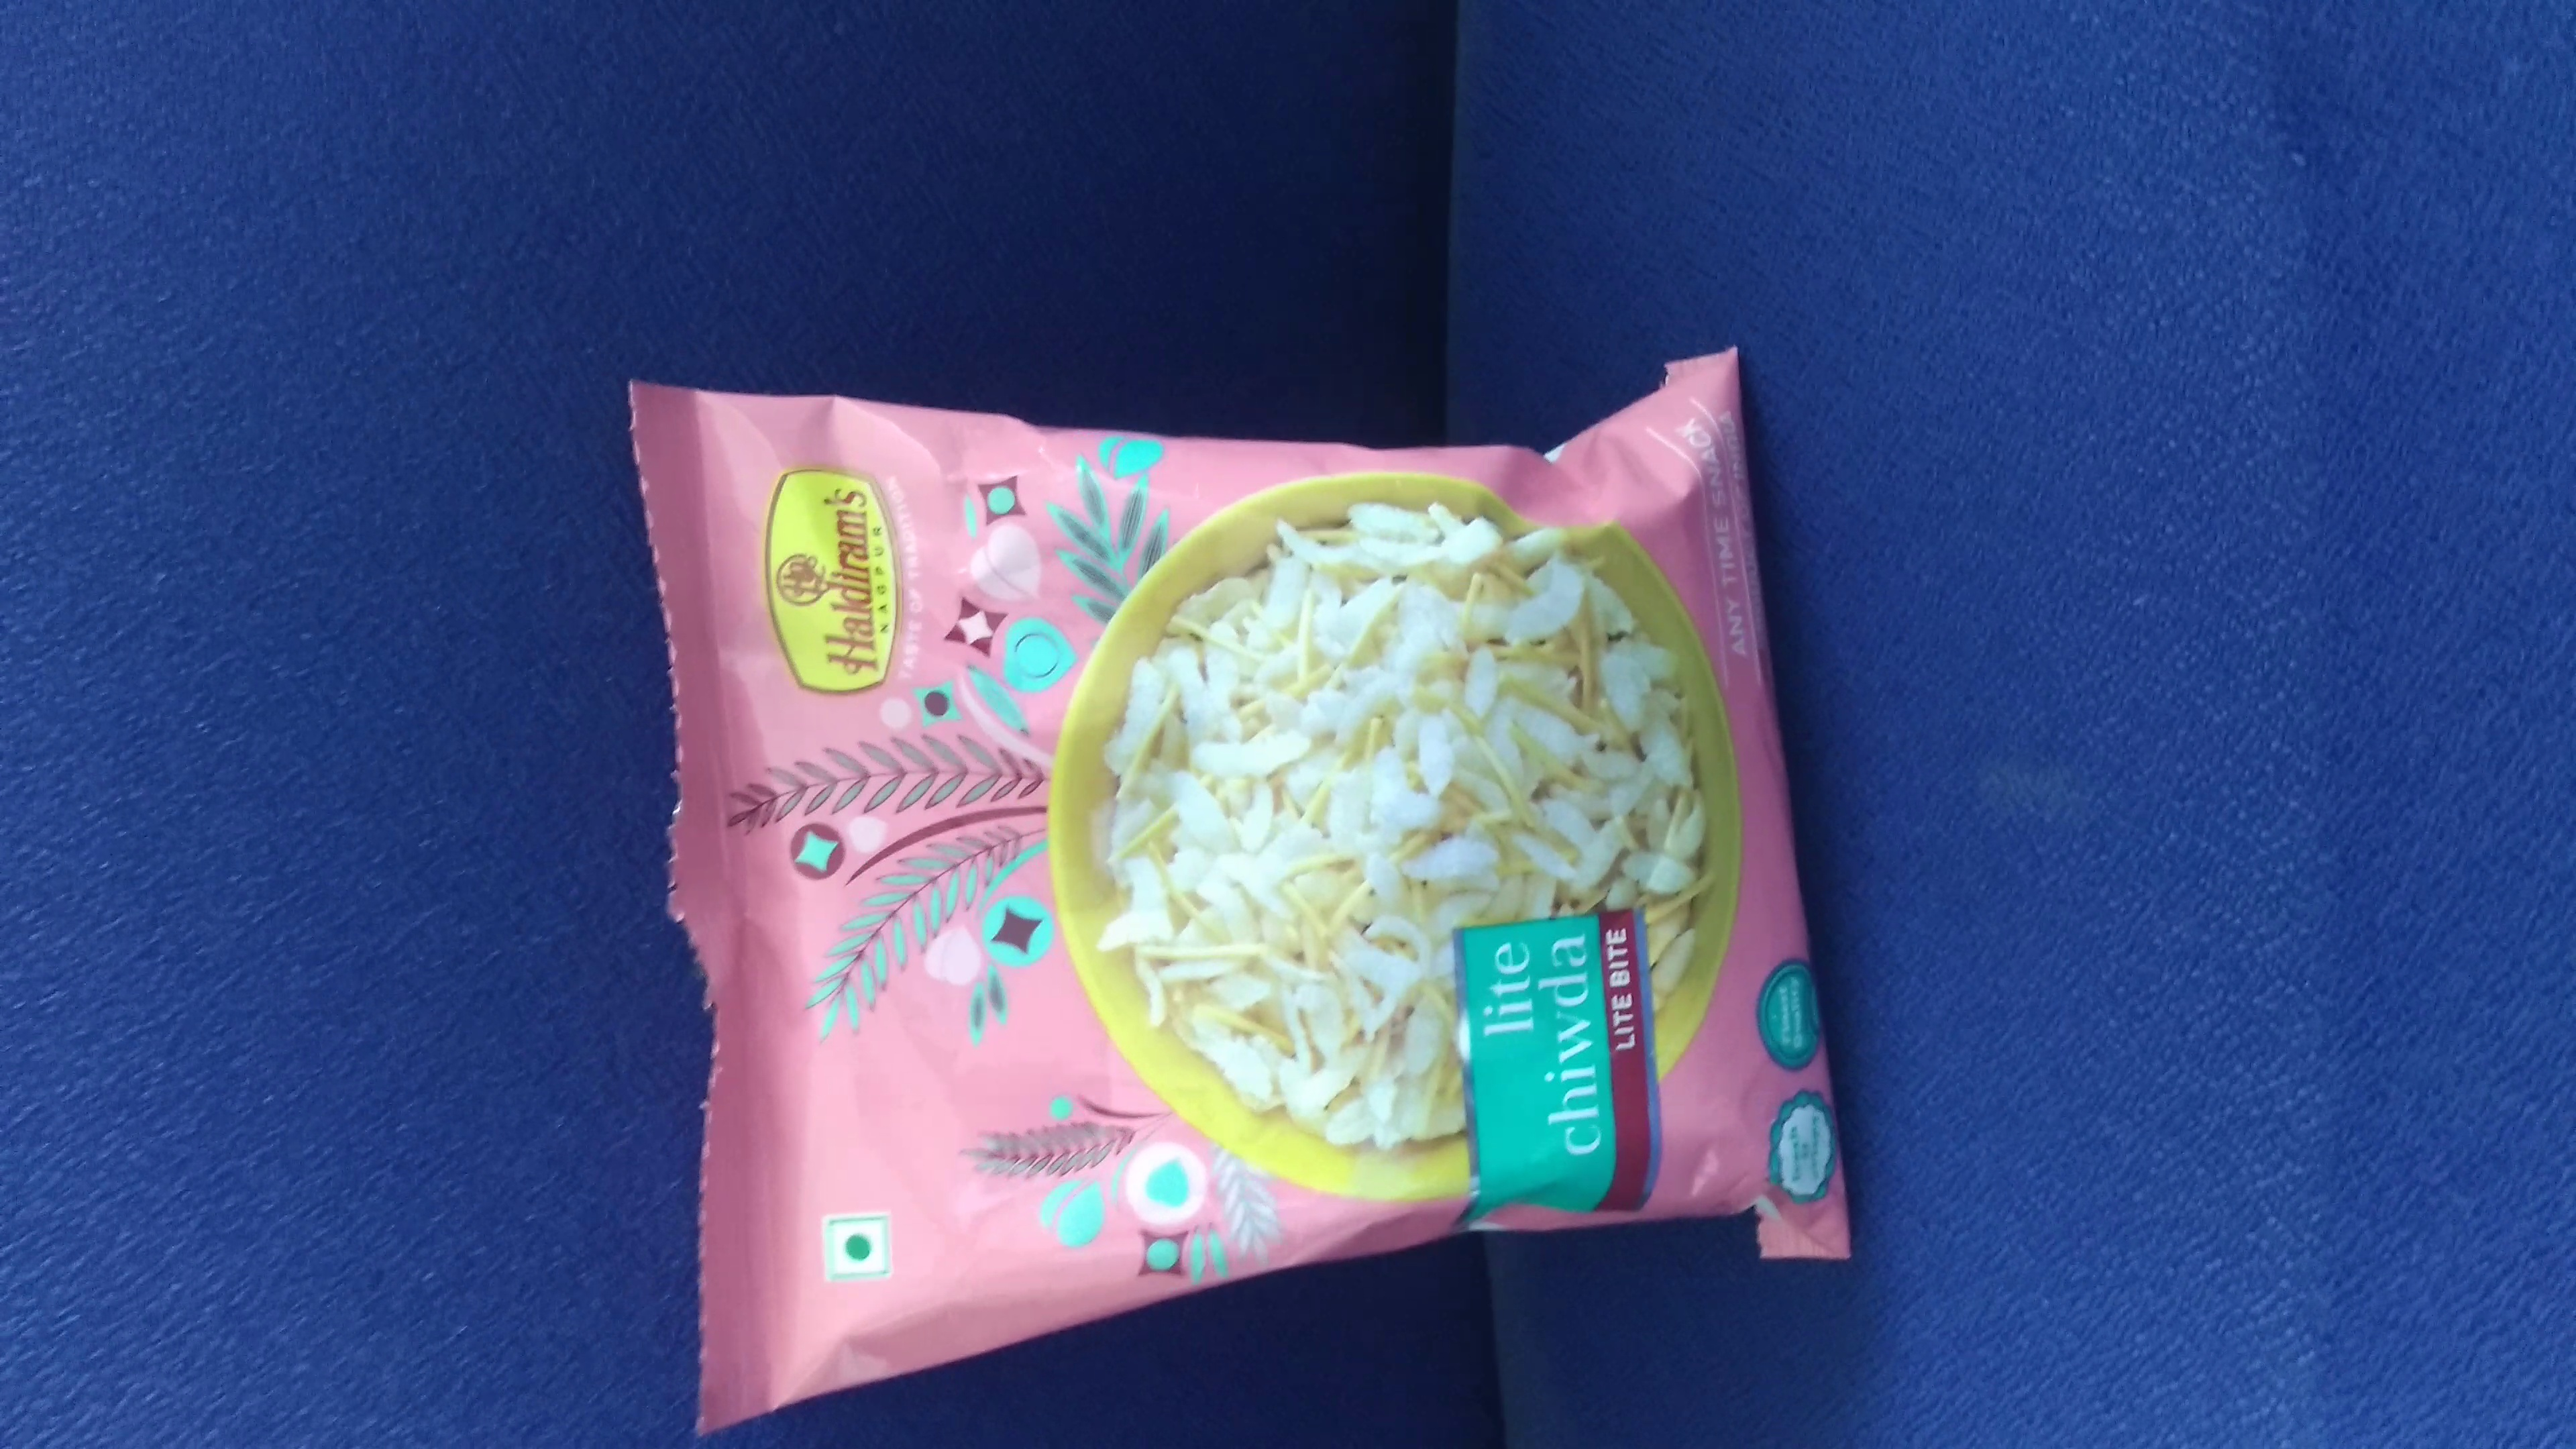liteChiwda: (603, 338, 1858, 1430)
